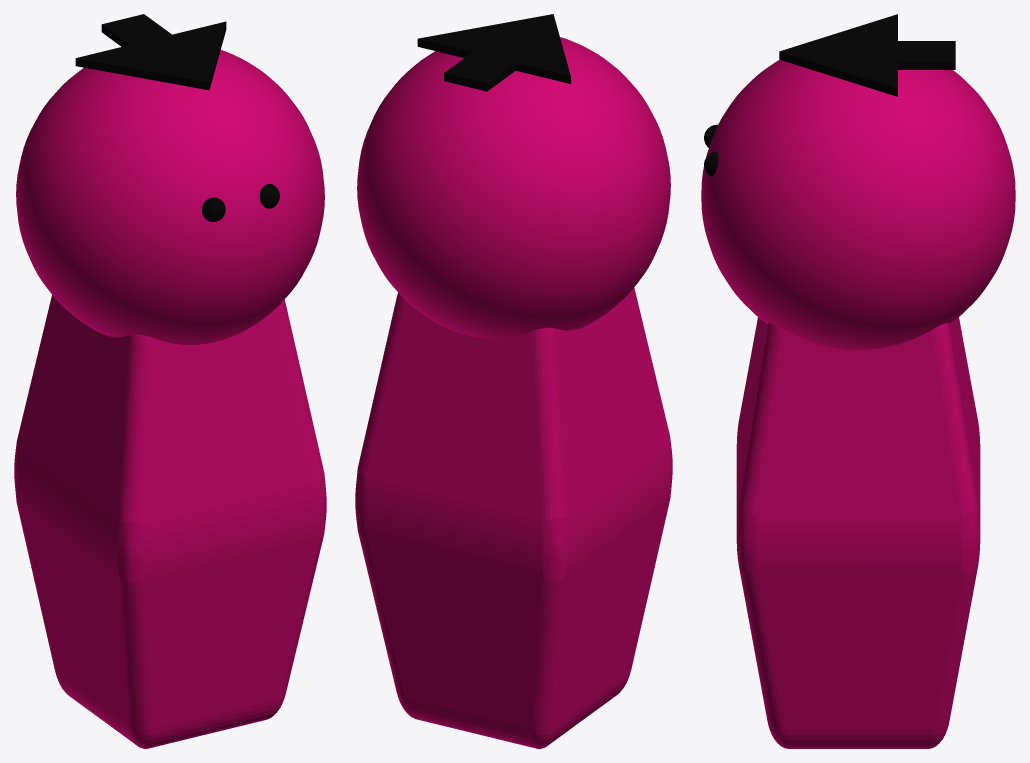
Rendered from 3pink.obj.
3 renders of one model, left to right at view 1: azimuth 30°, elevation 25°; view 2: azimuth 150°, elevation 25°; view 3: azimuth 270°, elevation 25°, orthographic.
Parts seen in each view (by area): view 1: Cube.006_Cube.013; view 2: Cube.006_Cube.013; view 3: Cube.006_Cube.013.
Part boxes in pixels (x1,y1,x2,y2): Cube.006_Cube.013: (14,14,326,748); Cube.006_Cube.013: (355,14,672,748); Cube.006_Cube.013: (701,14,1015,748).
Bounding box in the file's own units: 0.2062 × 0.482 × 0.2057.
